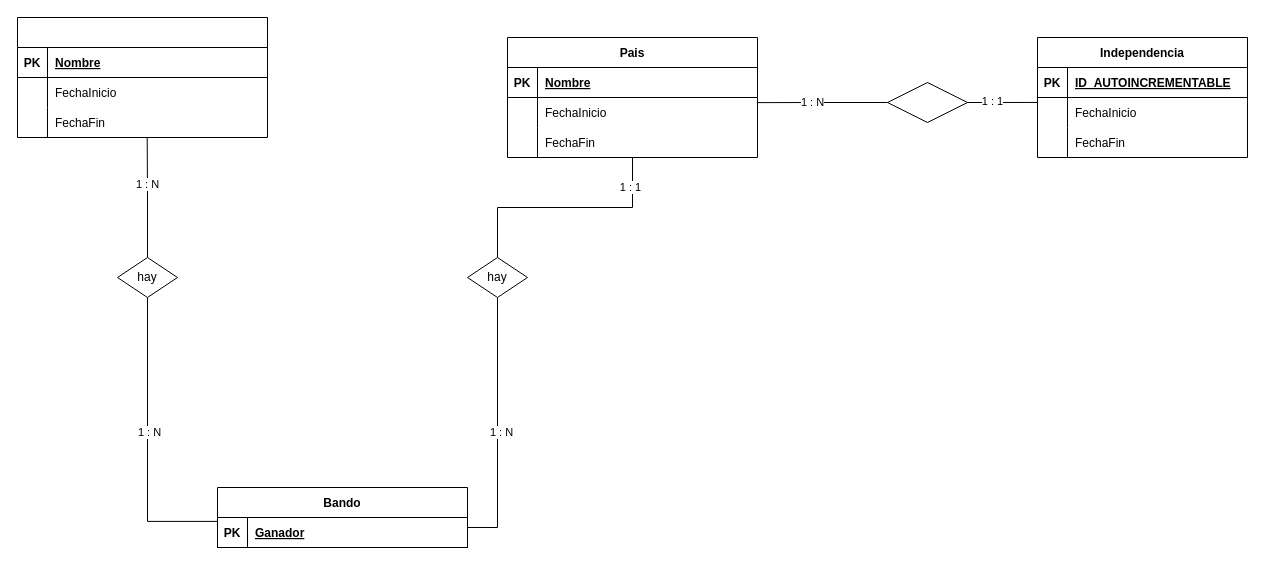
Some shapes in this 1265 by 565 pixel diagram are drawn without their labels. Here are the shapes that lost their labels. From the top down, the box of each, then its label:
(16, 16, 268, 138): Guerra
(886, 82, 968, 122): pueden tener
